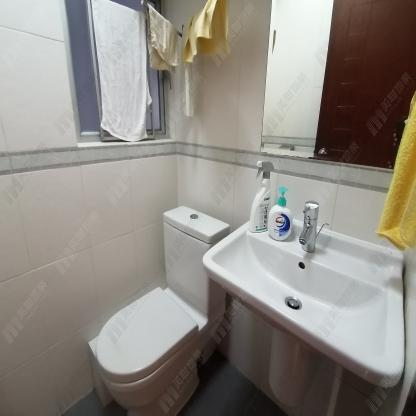Toilet: (95, 206, 230, 416)
Toilet Sink: (202, 210, 404, 387)
